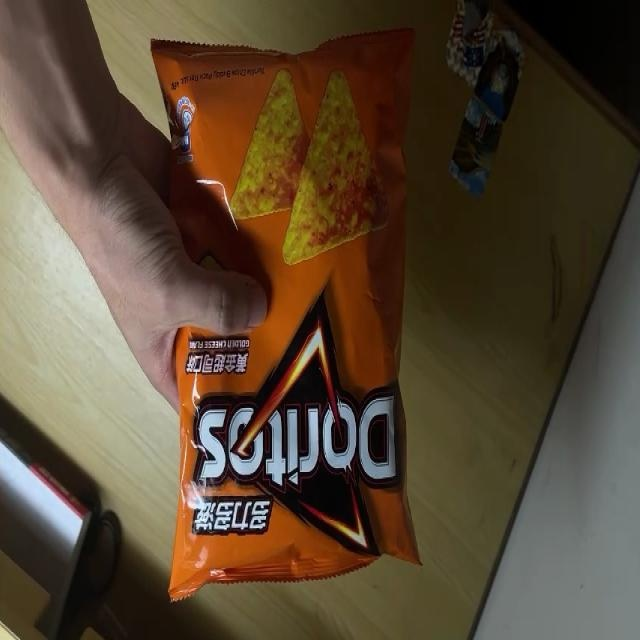Doritos: (148, 17, 422, 604)
